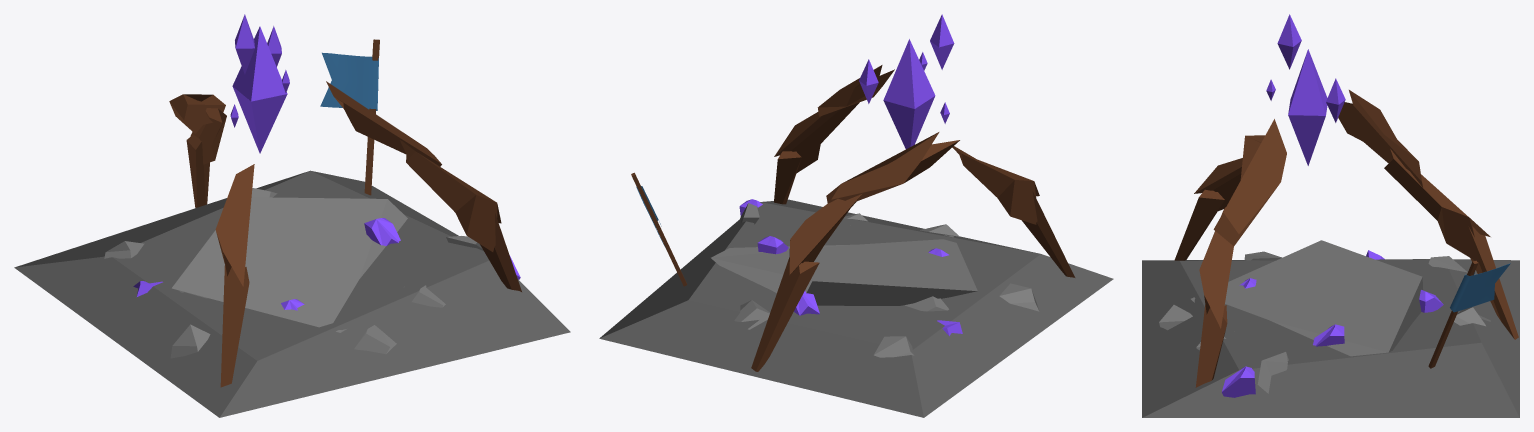
File: MagicTower-lvl1.fbx
3 renders of one model, left to right at view 1: azimuth 30°, elevation 25°; view 2: azimuth 150°, elevation 25°; view 3: azimuth 270°, elevation 25°, orthographic. The views are drawn at different scales.
Visible parts, largest first — view 1: Куб, Куб.001, Cone.007, Куб.006, Куб.009, Plane.009_feather_0, Куб.010, Куб.005, Куб.004, Куб.002, Куб.007, Куб.003 (+4 smaller); view 2: Куб, Куб.001, Cone.007, Куб.004, Куб.009, Куб.002, Куб.003, Куб.006, Куб.010, Куб.005, Куб.007, Куб.015 (+3 smaller); view 3: Куб, Куб.001, Куб.005, Cone.007, Куб.003, Куб.004, Куб.006, Куб.007, Куб.010, Plane.009_feather_0, Куб.002, Куб.009 (+8 smaller).
Part boxes in pixels (x1,y1,x2,y2): Куб: [14, 170, 570, 417]; Куб.001: [172, 197, 407, 332]; Cone.007: [230, 14, 289, 153]; Куб.006: [400, 140, 501, 251]; Куб.009: [215, 164, 254, 286]; Plane.009_feather_0: [320, 52, 378, 110]; Куб.010: [220, 264, 249, 387]; Куб.005: [326, 81, 441, 166]; Куб.004: [169, 94, 225, 133]; Куб.002: [186, 134, 209, 207]; Куб.007: [480, 213, 521, 291]; Куб.003: [190, 108, 226, 164]; Куб: [599, 199, 1113, 417]; Куб.001: [711, 235, 977, 305]; Cone.007: [859, 14, 954, 149]; Куб.004: [826, 132, 959, 203]; Куб.009: [952, 146, 1039, 224]; Куб.002: [751, 258, 819, 371]; Куб.003: [789, 194, 861, 274]; Куб.006: [774, 102, 859, 173]; Куб.010: [1022, 191, 1075, 277]; Куб.005: [817, 65, 894, 116]; Куб.007: [774, 151, 801, 204]; Куб.015: [874, 336, 914, 357]; Куб: [1142, 259, 1519, 417]; Куб.001: [1191, 240, 1423, 356]; Куб.005: [1213, 119, 1286, 245]; Cone.007: [1266, 14, 1345, 165]; Куб.003: [1384, 148, 1490, 262]; Куб.004: [1338, 90, 1422, 187]; Куб.006: [1199, 207, 1233, 328]; Куб.007: [1195, 305, 1227, 387]; Куб.010: [1174, 189, 1224, 260]; Plane.009_feather_0: [1450, 263, 1510, 312]; Куб.002: [1469, 226, 1518, 339]; Куб.009: [1194, 158, 1242, 211].
Bounding box in the file's own units: 796 × 692 × 806.
